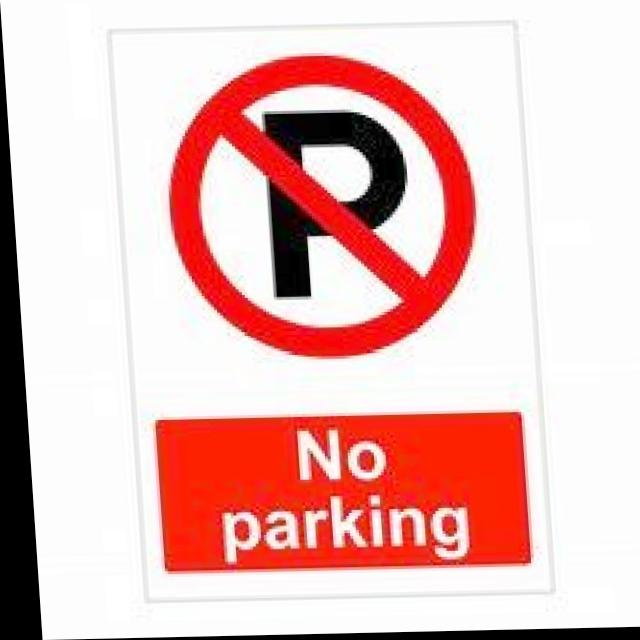NO_PARKING: (153, 49, 485, 365)
